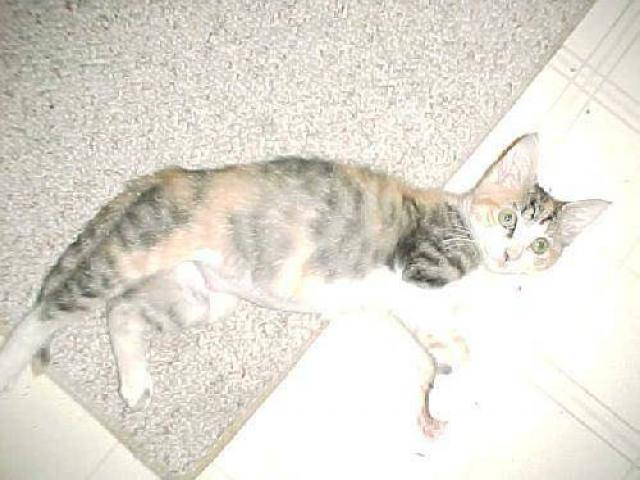cat: (31, 136, 614, 413)
